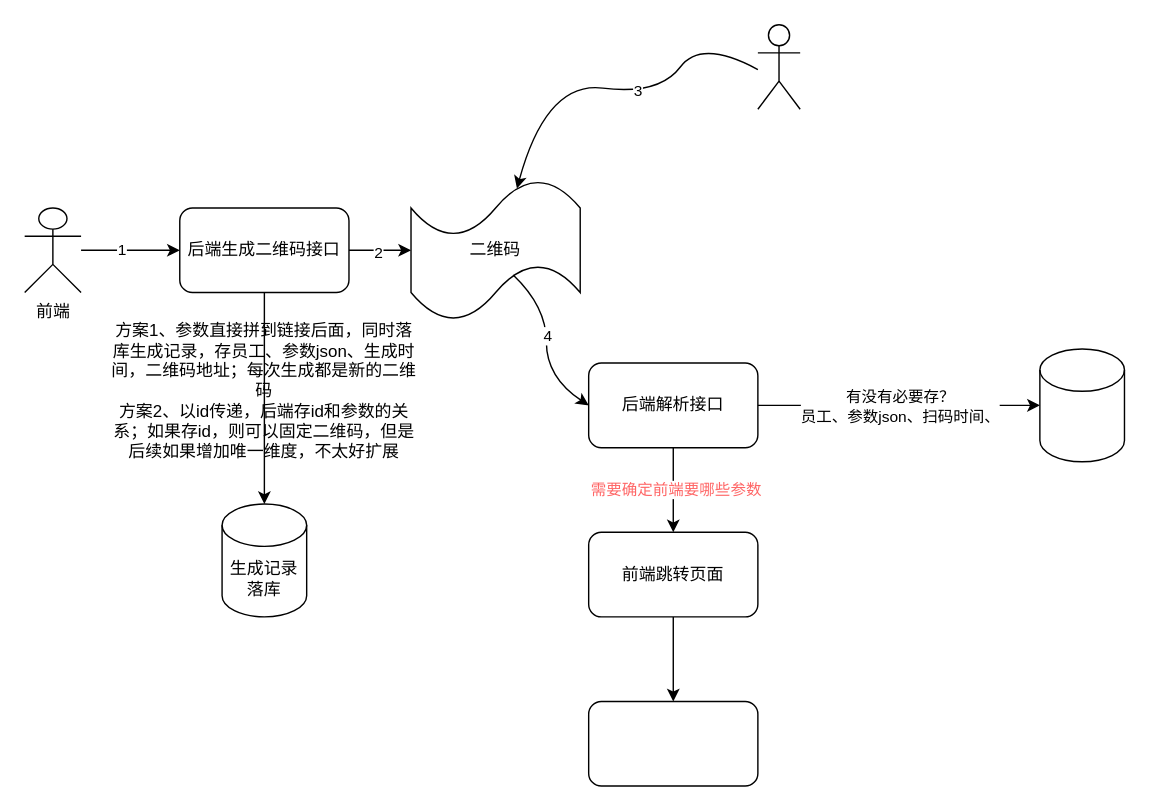
This 1149x811 diagram has some shape labels left out. The shapes that lost their labels are listed below. From the top down, each one's box as (x1, y1, x2, y2) in pixels, then its label:
(756, 23, 800, 109): 学员
(1038, 348, 1124, 462): 访问记录落库
(587, 700, 758, 786): 打开学员端小程序 同时展示对应的资料
